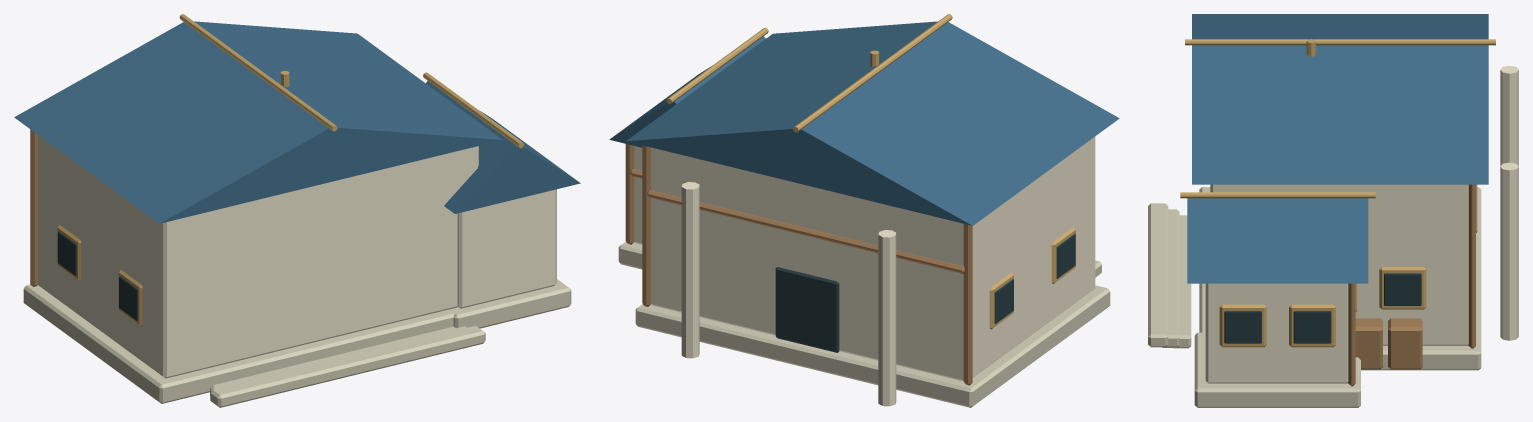
The model's file is level_22.glb.
3 views of the same model, side by side, from view 1: azimuth 30°, elevation 25°; view 2: azimuth 150°, elevation 25°; view 3: azimuth 270°, elevation 25° (orthographic).
Parts seen in each view (by area): view 1: warehouse — level 22; view 2: warehouse — level 22; view 3: warehouse — level 22.
Boxes of the visible parts, box(x1,y1,x2,y2) form: warehouse — level 22: box(14, 14, 580, 407); warehouse — level 22: box(609, 14, 1119, 407); warehouse — level 22: box(1148, 14, 1518, 407).
Size of the model in its own units: 6.82 by 3.87 by 5.13.
